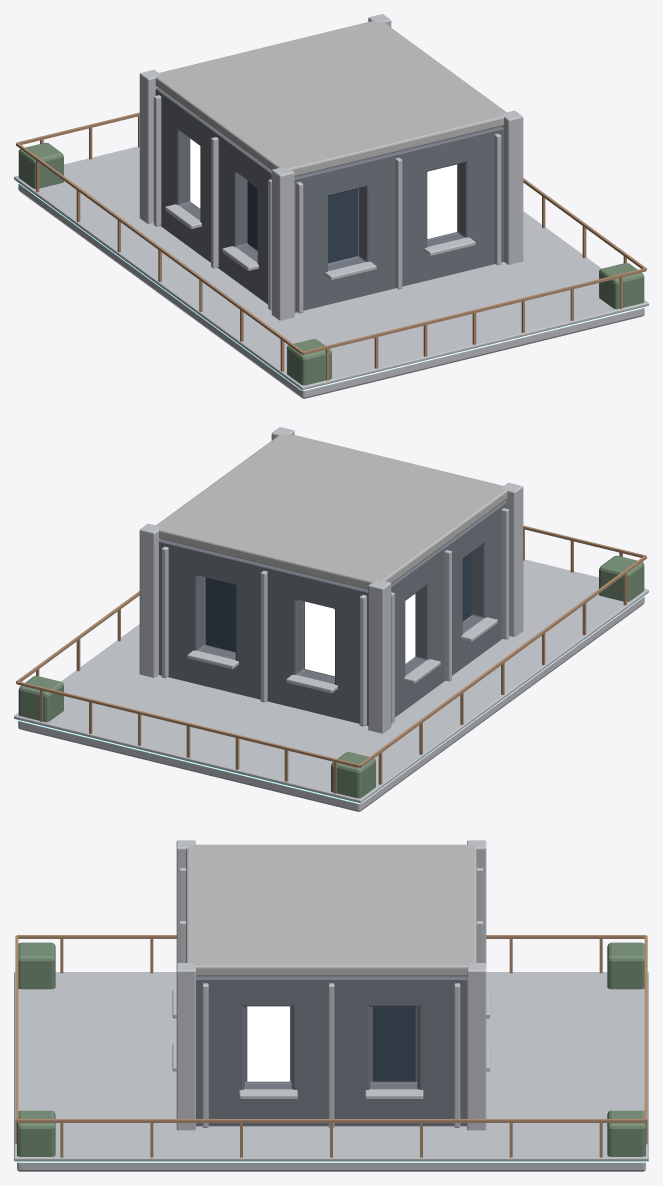
Rendered from transfer_4x6_3x3_office.glb.
The picture shows the model from 3 angles, top to bottom: view 1: azimuth 30°, elevation 25°; view 2: azimuth 150°, elevation 25°; view 3: azimuth 270°, elevation 25°; orthographic projection. The views are drawn at different scales.
Visible parts, largest first — view 1: int_slab_edge, ext_wall, int_ceiling, int_columns, ext_frames, ext_deck_rail, int_slab, ext_deck_plants, ext_panes_lit, ext_panes_dark, ext_deck_glow; view 2: int_slab_edge, ext_wall, int_ceiling, int_columns, ext_frames, ext_deck_rail, int_slab, ext_deck_plants, ext_panes_dark, ext_panes_lit, ext_deck_glow; view 3: int_slab_edge, int_ceiling, ext_wall, int_columns, ext_deck_plants, ext_deck_rail, ext_frames, int_slab, ext_panes_lit, ext_panes_dark, ext_deck_glow.
Part boxes in pixels (x1,y1,x2,y2): int_slab_edge: (14, 146, 648, 390); ext_wall: (155, 88, 503, 312); int_ceiling: (155, 20, 506, 176); int_columns: (139, 14, 523, 320); ext_frames: (153, 95, 501, 313); ext_deck_rail: (16, 112, 646, 380); int_slab: (18, 184, 644, 398); ext_deck_plants: (18, 142, 644, 385); ext_panes_lit: (190, 139, 456, 238); ext_panes_dark: (247, 181, 357, 263); ext_deck_glow: (15, 181, 646, 390); int_slab_edge: (14, 559, 648, 803); ext_wall: (159, 501, 507, 725); int_ceiling: (156, 433, 507, 589); int_columns: (139, 427, 523, 733); ext_frames: (161, 508, 509, 726); ext_deck_rail: (16, 525, 646, 793); int_slab: (18, 597, 644, 811); ext_deck_plants: (18, 555, 644, 798); ext_panes_dark: (206, 552, 472, 651); ext_panes_lit: (305, 594, 415, 676); ext_deck_glow: (16, 594, 647, 803); int_slab_edge: (14, 972, 648, 1161); int_ceiling: (186, 844, 476, 976); ext_wall: (196, 976, 466, 1126); int_columns: (176, 840, 486, 1130); ext_deck_plants: (17, 942, 645, 1156); ext_deck_rail: (15, 935, 647, 1157); ext_frames: (172, 868, 490, 1127); int_slab: (17, 1162, 645, 1171); ext_panes_lit: (247, 1006, 289, 1081); ext_panes_dark: (373, 1006, 415, 1081); ext_deck_glow: (15, 1161, 647, 1162).
Size of the model in its own units: 4.56 by 2 by 6.56.
